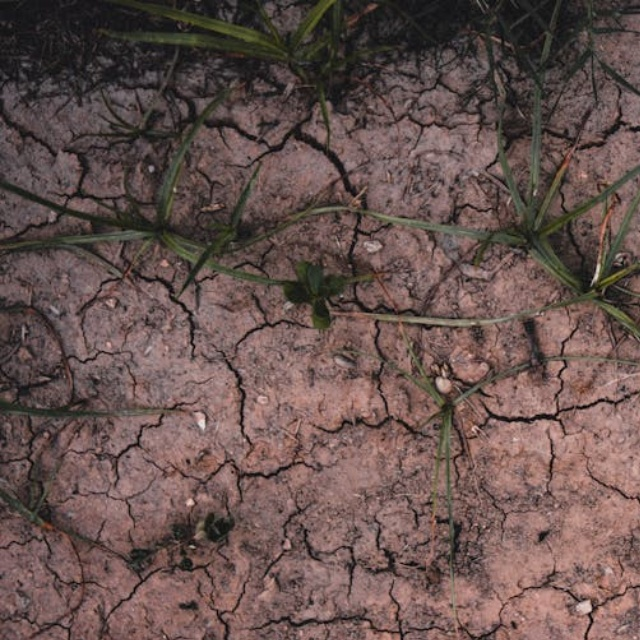细微裂纹: (261, 371, 640, 462), (202, 568, 604, 640)
